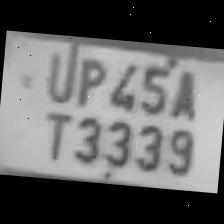3: (98, 112, 135, 170), (67, 110, 104, 166), (130, 117, 164, 174)
4: (102, 54, 140, 112)
5: (135, 56, 172, 114)
9: (162, 121, 198, 177)
A: (165, 62, 203, 120)
P: (71, 51, 108, 109)
T: (33, 105, 75, 163)
U: (40, 44, 78, 104)
